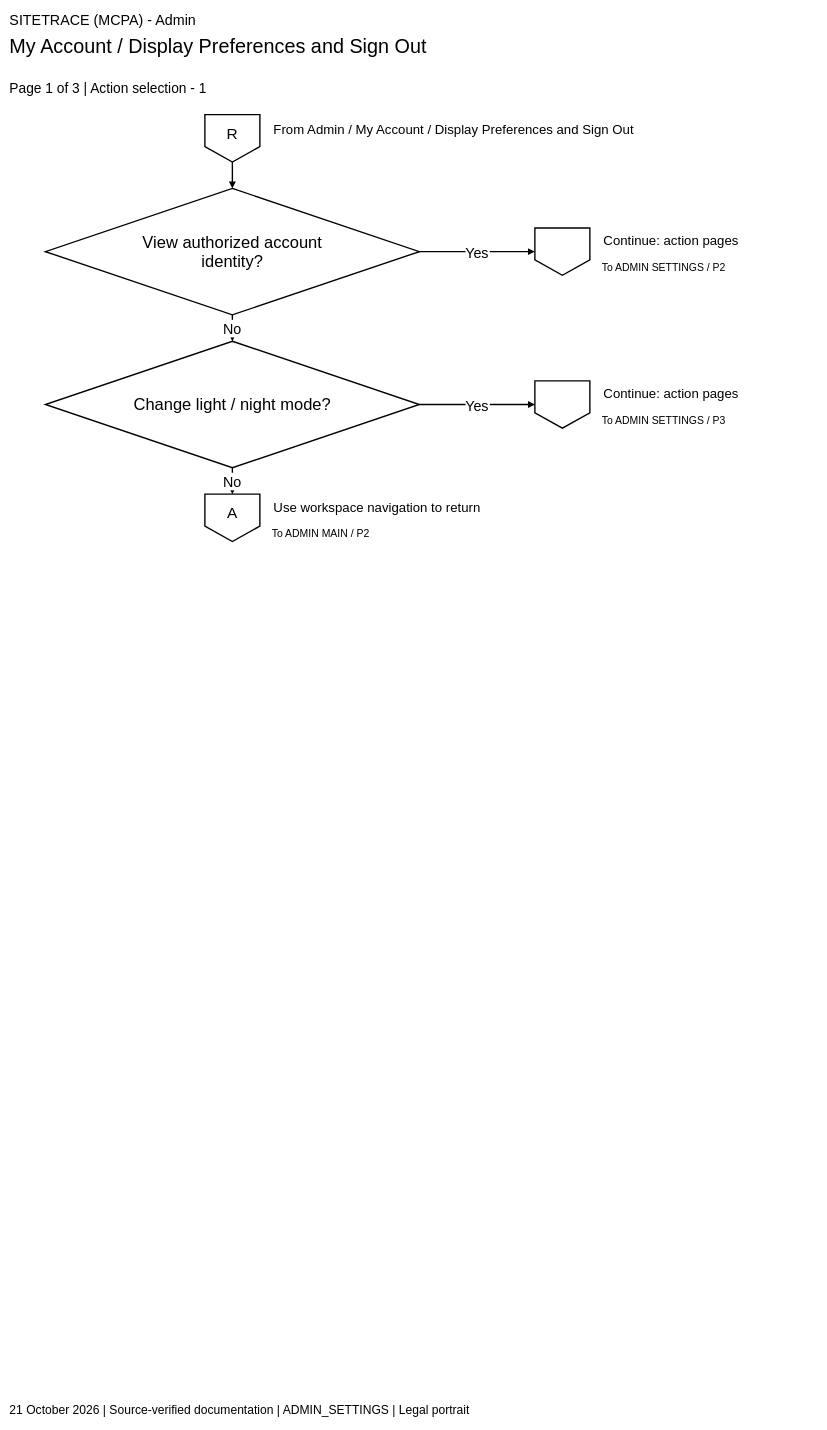
This 827x1430 diagram has some shape labels left out. The shapes that lost their labels are listed below. From the top down, each one's centre as x and y in pixels, then its label:
At (562,251): "FK".
At (562,404): "FL".
